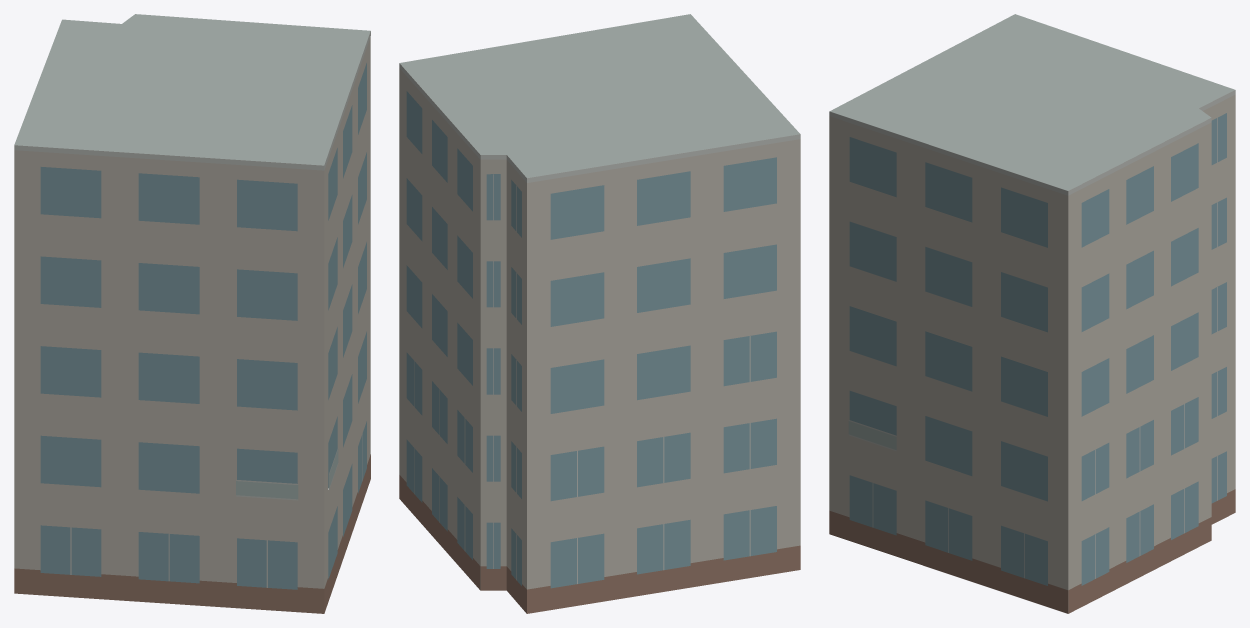
Rendered from survey-upis-33000506.glb.
3 renders of one model, left to right at view 1: azimuth 30°, elevation 25°; view 2: azimuth 150°, elevation 25°; view 3: azimuth 270°, elevation 25°, orthographic. The views are drawn at different scales.
Visible parts, largest first — view 1: survey-upis-33000506.tmp; view 2: survey-upis-33000506.tmp; view 3: survey-upis-33000506.tmp.
Boxes of the visible parts, box(x1,y1,x2,y2) form: survey-upis-33000506.tmp: box(14, 14, 370, 613); survey-upis-33000506.tmp: box(399, 14, 800, 613); survey-upis-33000506.tmp: box(829, 14, 1235, 613).
Size of the model in its own units: 19.68 by 21.9 by 19.07.
